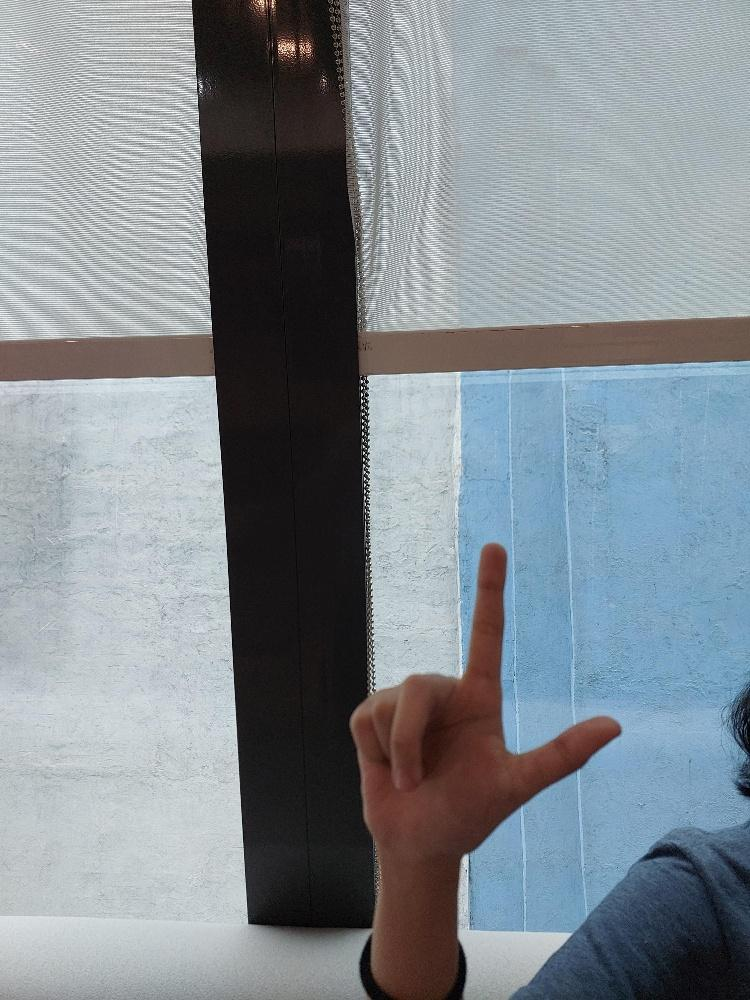l: (347, 539, 622, 845)
